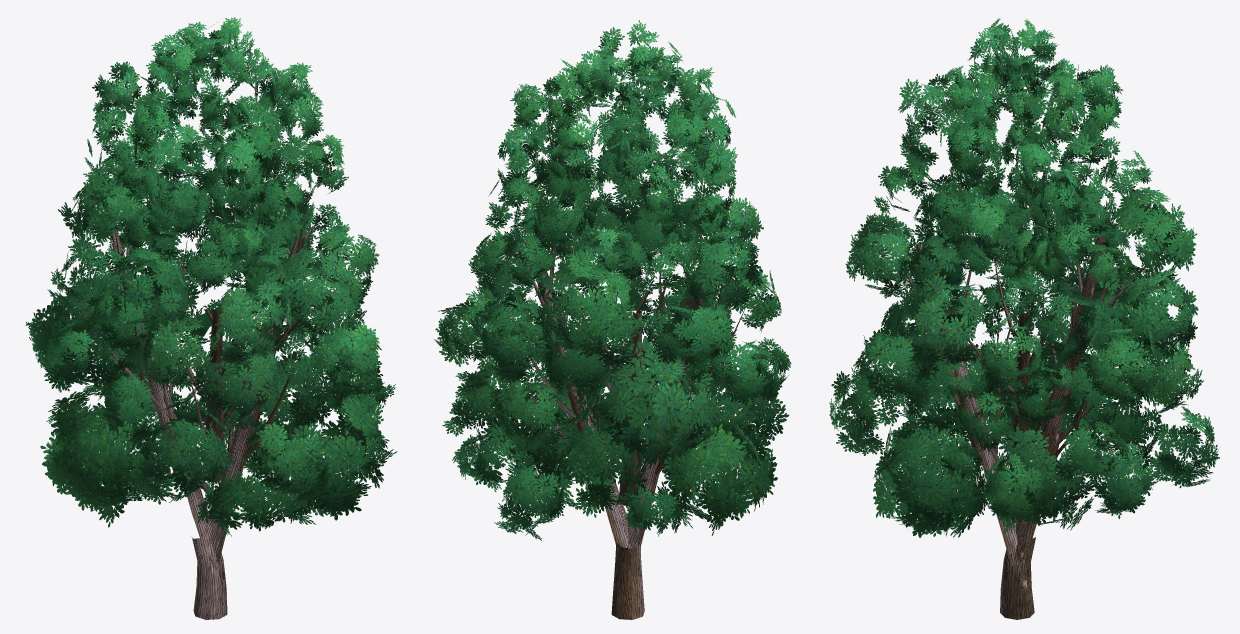
The model's file is mm6_deco_tree25.glb.
3 renders of one model, left to right at view 1: azimuth 30°, elevation 25°; view 2: azimuth 150°, elevation 25°; view 3: azimuth 270°, elevation 25°, orthographic. The views are drawn at different scales.
Parts seen in each view (by area): view 1: Tree; view 2: Tree; view 3: Tree.
Part boxes in pixels (x1=…): Tree: x1=25, y1=17, x2=397, y2=619; Tree: x1=434, y1=20, x2=791, y2=619; Tree: x1=829, y1=18, x2=1219, y2=619.
Size of the model in its own units: 2.02 by 3.38 by 2.06.
Materials: 3 (3 with a texture image).
